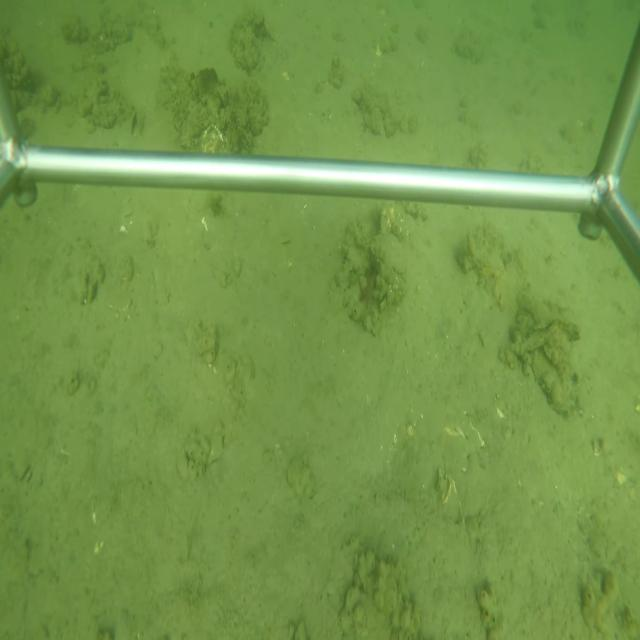Oyster-Closed: (514, 315, 581, 352), (368, 228, 408, 280)
